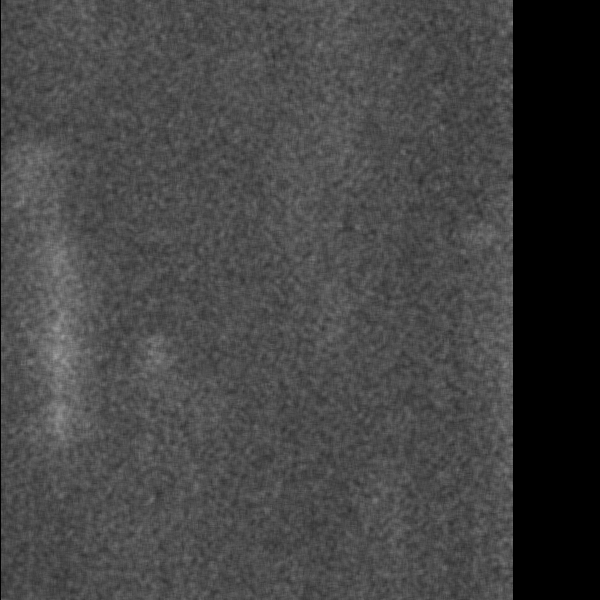spark: (21, 248, 103, 455), (130, 329, 168, 395)
